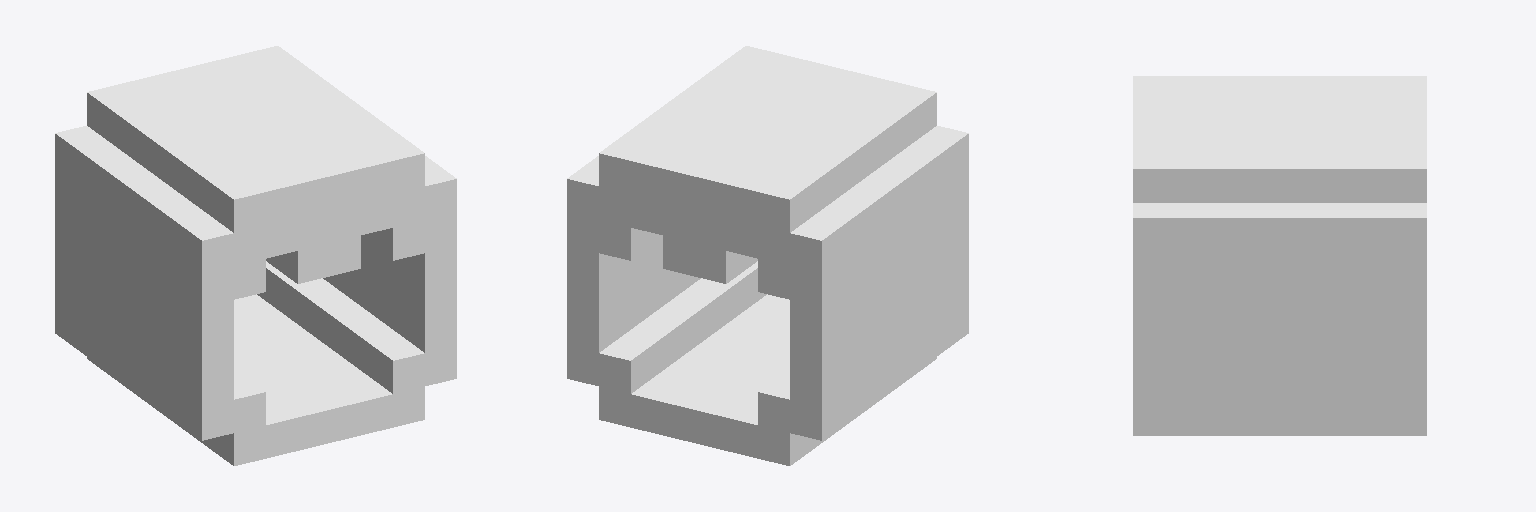
Rendered from Corridor_STRAIGHT.obj.
3 views of the same model, side by side, from view 1: azimuth 30°, elevation 25°; view 2: azimuth 150°, elevation 25°; view 3: azimuth 270°, elevation 25° (orthographic).
Visible parts, largest first — view 1: object 1; view 2: object 1; view 3: object 1.
Part boxes in pixels (x1,y1,x2,y2): object 1: (55, 46, 456, 465); object 1: (567, 46, 968, 465); object 1: (1133, 76, 1426, 435).
Bounding box in the file's own units: 0.8 × 0.8 × 0.8.